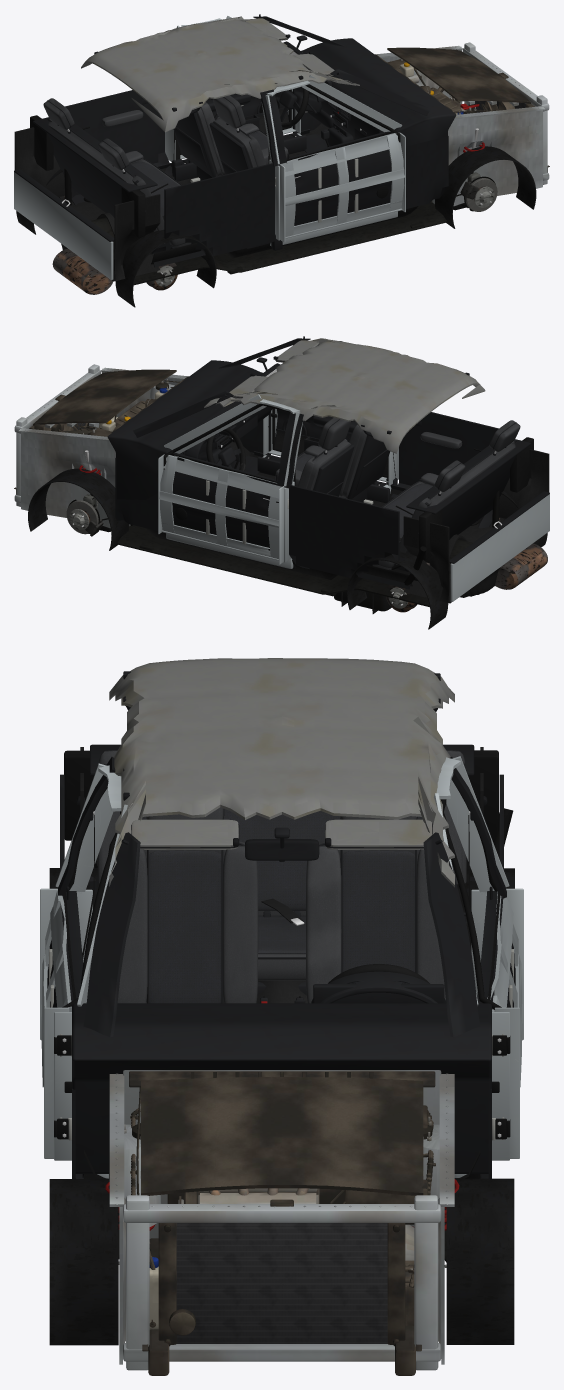
Rendered from caipora_completo.glb.
3 renders of one model, top to bottom at view 1: azimuth 30°, elevation 25°; view 2: azimuth 150°, elevation 25°; view 3: azimuth 270°, elevation 25°, orthographic. The views are drawn at different scales.
Parts seen in each view (by area): view 1: interior_forro_teto, interior_portamalas_carpete, interior_lateral_traseira_dir, interior_painel, door_card_fr_chapa, interior_banco_traseiro, engine_paralama_interno_dir, under_assoalho, interior_lateral_traseira_esq, hood_manta, door_card_fr, interior_banco_dianteiro_esq (+23 smaller); view 2: interior_forro_teto, interior_portamalas_carpete, interior_painel, interior_lateral_traseira_esq, door_card_fl_chapa, interior_banco_traseiro, engine_paralama_interno_esq, under_assoalho, interior_lateral_traseira_dir, door_card_fl, hood_manta, interior_banco_dianteiro_dir (+22 smaller); view 3: interior_forro_teto, interior_painel, hood_manta, engine_radiador, interior_banco_dianteiro_dir, engine_travessa, interior_banco_dianteiro_esq, interior_acabamento_colunas, under_caixa_roda_fr, under_caixa_roda_fl, interior_banco_traseiro, interior_quebra_sois (+21 smaller).
Boxes of the visible parts, x1,y1,x2,y2 form: interior_forro_teto: (81,16,359,132); interior_portamalas_carpete: (14,127,160,281); interior_lateral_traseira_dir: (151,163,274,255); interior_painel: (293,38,456,146); door_card_fr_chapa: (279,132,405,242); interior_banco_traseiro: (43,98,191,249); engine_paralama_interno_dir: (448,106,545,206); under_assoalho: (91,202,447,285); interior_lateral_traseira_esq: (65,90,172,205); hood_manta: (387,47,530,106); door_card_fr: (286,131,393,225); interior_banco_dianteiro_esq: (173,102,288,182); interior_forro_teto: (204,338,485,453); interior_portamalas_carpete: (390,449,549,603); interior_painel: (107,360,272,499); interior_lateral_traseira_esq: (289,485,408,577); door_card_fl_chapa: (158,454,284,564); interior_banco_traseiro: (372,420,520,571); engine_paralama_interno_esq: (18,428,115,528); under_assoalho: (111,525,472,607); interior_lateral_traseira_dir: (391,412,498,528); door_card_fl: (170,452,277,550); hood_manta: (33,369,176,428); interior_banco_dianteiro_dir: (275,424,390,504); interior_forro_teto: (109,658,454,887); interior_painel: (72,971,491,1173); hood_manta: (140,1077,423,1195); engine_radiador: (158,1223,405,1346); interior_banco_dianteiro_dir: (117,807,268,1003); engine_travessa: (123,1179,441,1370); interior_banco_dianteiro_esq: (296,816,445,1003); interior_acabamento_colunas: (57,757,506,1037); under_caixa_roda_fr: (49,1179,118,1345); under_caixa_roda_fl: (446,1178,514,1344); interior_banco_traseiro: (97,750,466,995); interior_quebra_sois: (121,819,442,849).
Size of what is drawn, in the model's own units: 3.61 by 1.49 by 1.62.
Materials: 54 (54 with a texture image).
